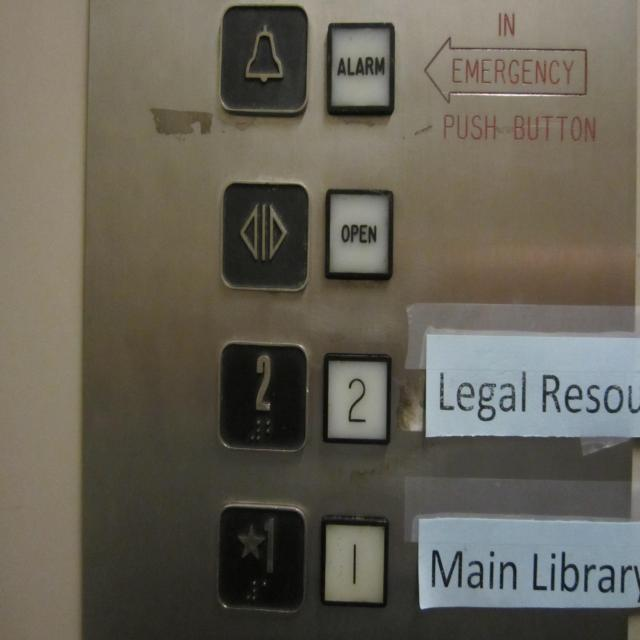1: (317, 502, 394, 618)
2: (211, 328, 314, 464), (320, 345, 398, 455)
alarm: (214, 1, 314, 125)
open: (217, 177, 315, 300)
s1: (213, 496, 311, 616)
text_alarm bell: (322, 18, 398, 122)
text_open door: (321, 184, 397, 287)
